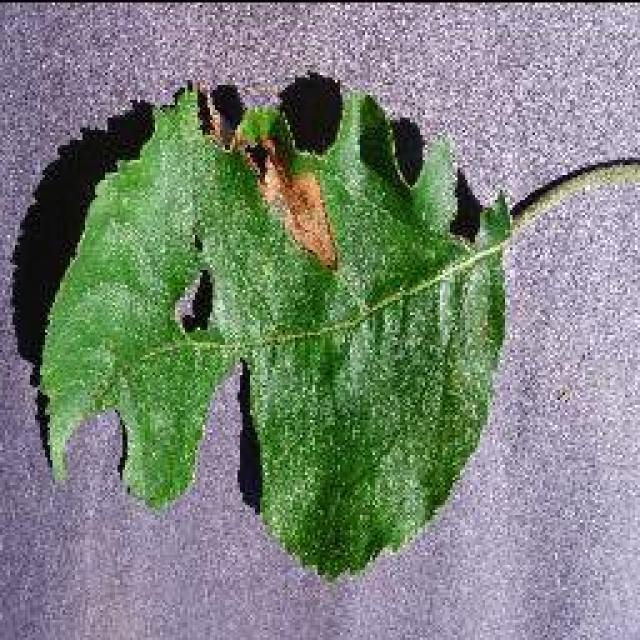apple black rot: (10, 70, 638, 582)
